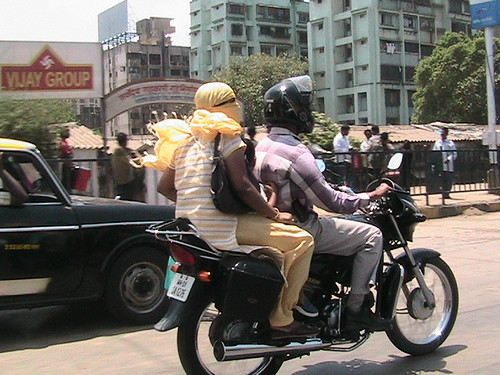helmet: (261, 76, 319, 132)
